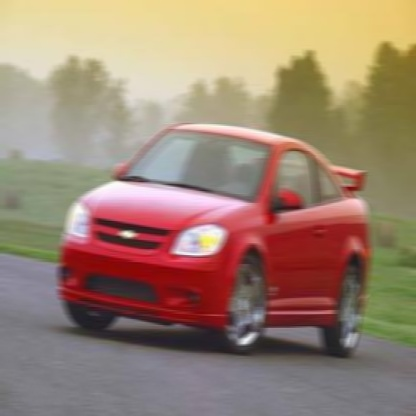Vehicle: (58, 120, 374, 361)
